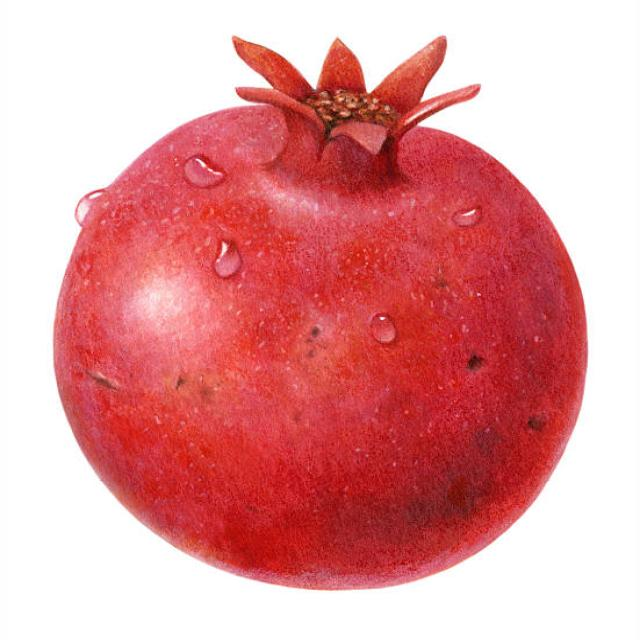Pomegranate: (54, 36, 589, 592)
